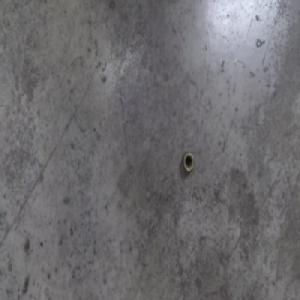Nut: (182, 150, 195, 174)
